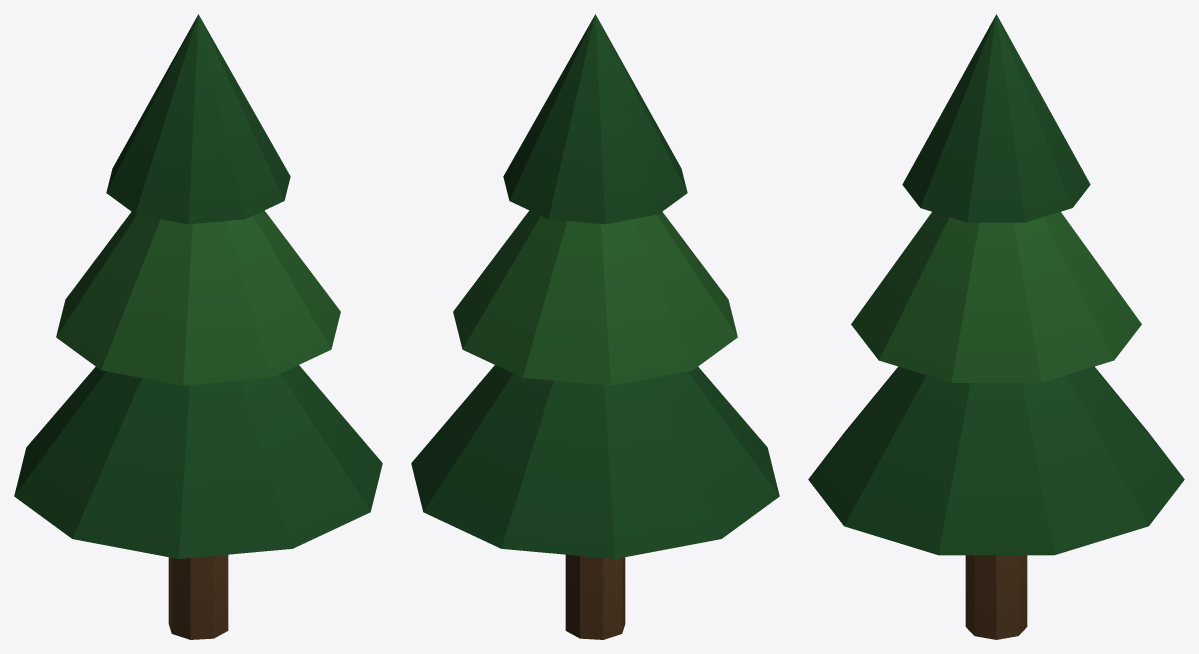
The model's file is prop_pine.glb.
3 views of the same model, side by side, from view 1: azimuth 30°, elevation 25°; view 2: azimuth 150°, elevation 25°; view 3: azimuth 270°, elevation 25° (orthographic).
Parts seen in each view (by area): view 1: canopy_low, canopy_mid, canopy_top, trunk; view 2: canopy_low, canopy_mid, canopy_top, trunk; view 3: canopy_low, canopy_mid, canopy_top, trunk.
Boxes of the visible parts, left/top/right/bottom form: canopy_low: left=14, top=365, right=382, bottom=558; canopy_mid: left=56, top=210, right=340, bottom=385; canopy_top: left=106, top=14, right=290, bottom=224; trunk: left=168, top=554, right=228, bottom=639; canopy_low: left=411, top=365, right=779, bottom=558; canopy_mid: left=453, top=210, right=737, bottom=385; canopy_top: left=503, top=14, right=687, bottom=224; trunk: left=565, top=554, right=625, bottom=639; canopy_low: left=808, top=366, right=1184, bottom=555; canopy_mid: left=851, top=212, right=1141, bottom=382; canopy_top: left=902, top=14, right=1090, bottom=222; trunk: left=965, top=555, right=1027, bottom=639.
Bounding box in the file's own units: 2.09 × 3.95 × 2.2.
